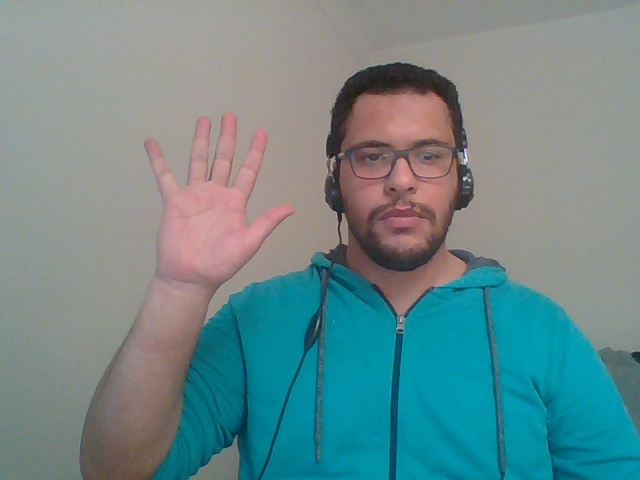hello: (117, 93, 304, 389)
